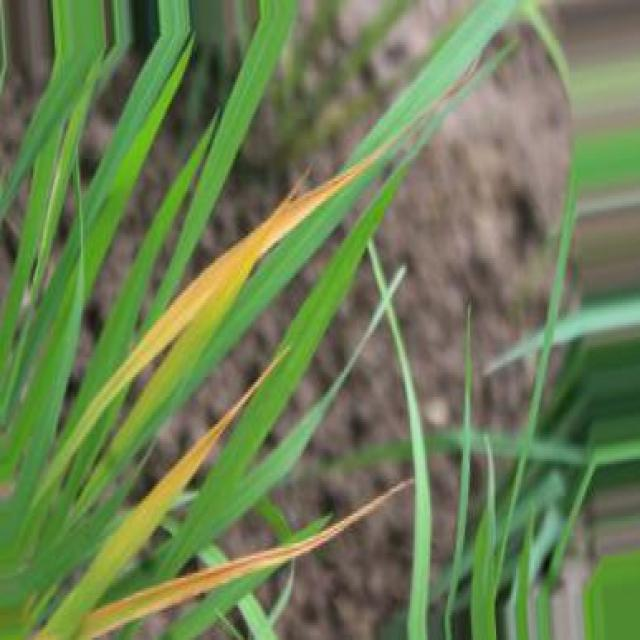Rice Tungro: (44, 145, 386, 487), (36, 357, 281, 638), (79, 481, 412, 638)
